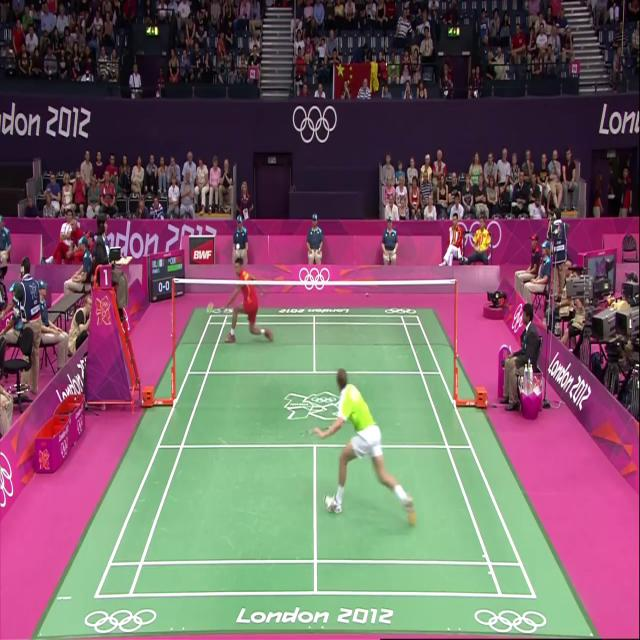Net: (174, 278, 458, 379)
Player1: (311, 347, 424, 548)
Player2: (212, 239, 278, 369)
